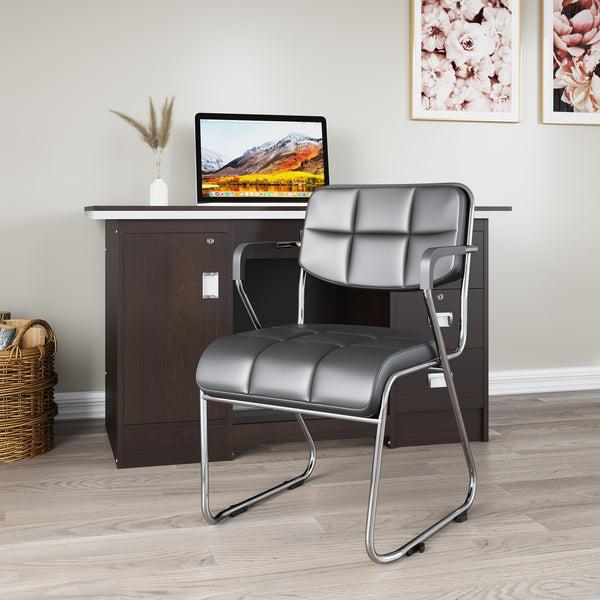bed: (192, 177, 479, 566)
